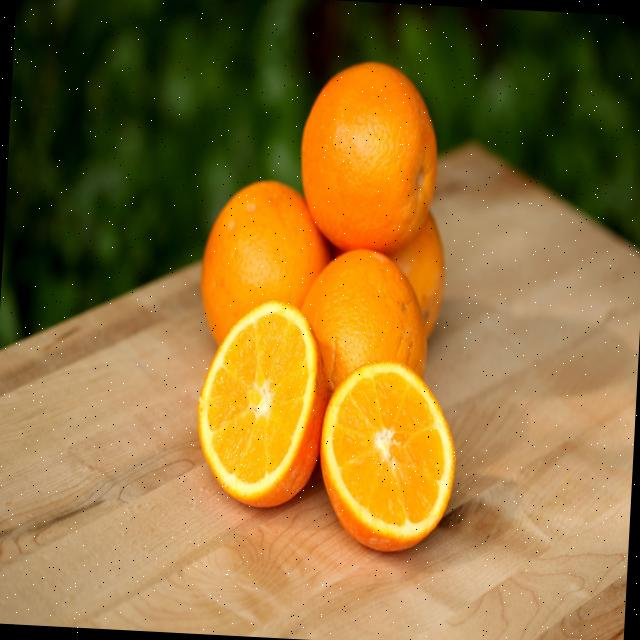Jeruk: (192, 296, 332, 511), (296, 57, 442, 256), (315, 358, 461, 556), (198, 176, 334, 352), (296, 244, 432, 399), (386, 208, 448, 340)
